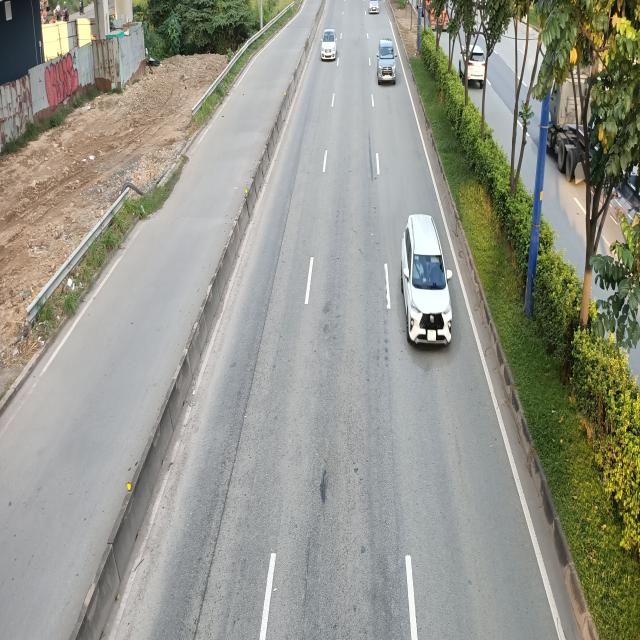car: (400, 214, 452, 348), (377, 40, 397, 85), (319, 27, 338, 59)
